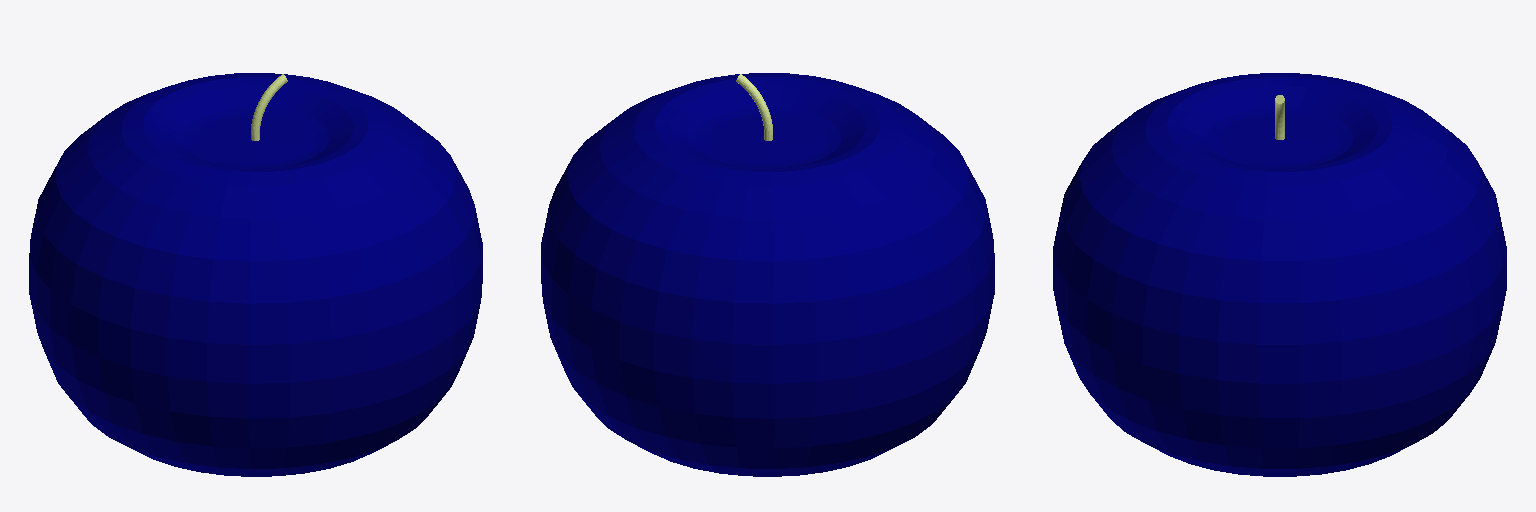
The model's file is Apple.obj.
The picture shows the model from 3 angles: view 1: azimuth 30°, elevation 25°; view 2: azimuth 150°, elevation 25°; view 3: azimuth 270°, elevation 25°; orthographic projection.
Visible parts, largest first — view 1: Sphere01, Cylinder01; view 2: Sphere01, Cylinder01; view 3: Sphere01.
Part boxes in pixels (x1,y1,x2,y2): Sphere01: (29,73,482,476); Cylinder01: (251,74,287,140); Sphere01: (541,73,994,476); Cylinder01: (736,74,772,140); Sphere01: (1053,73,1506,476).
Bounding box in the file's own units: 45.95 × 39.17 × 46.14.